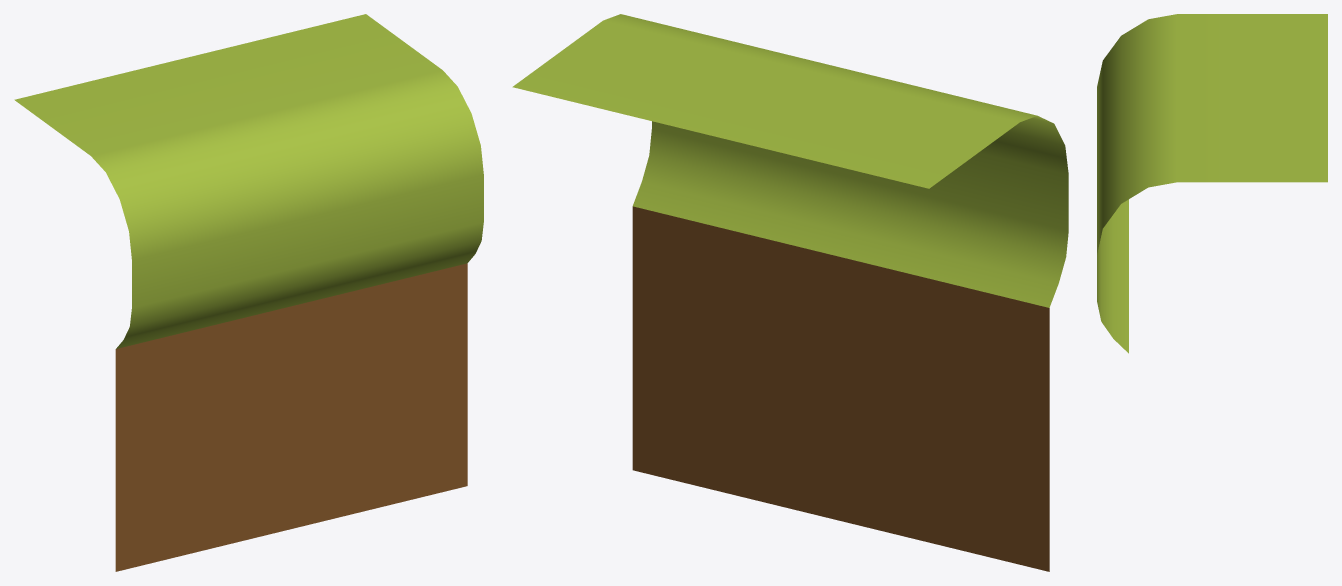
Rendered from Borda.fbx.
3 views of the same model, side by side, from view 1: azimuth 30°, elevation 25°; view 2: azimuth 150°, elevation 25°; view 3: azimuth 270°, elevation 25° (orthographic). The views are drawn at different scales.
Parts seen in each view (by area): view 1: polySurface384; view 2: polySurface384; view 3: polySurface384.
Boxes of the visible parts, x1=… form: polySurface384: x1=14, y1=14, x2=483, y2=571; polySurface384: x1=512, y1=14, x2=1068, y2=571; polySurface384: x1=1097, y1=14, x2=1327, y2=353.
Bounding box in the file's own units: 100 × 108 × 58.
